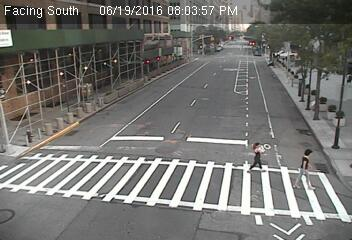neg: (137, 131, 160, 162), (20, 115, 43, 144), (67, 106, 88, 134), (94, 77, 113, 102), (60, 166, 79, 191), (174, 146, 192, 171), (134, 59, 152, 83), (240, 71, 257, 95), (183, 192, 200, 215), (116, 186, 133, 208), (196, 69, 210, 88), (287, 33, 301, 51), (291, 73, 304, 90), (320, 95, 332, 112), (207, 28, 218, 42)
pos: (292, 146, 326, 190), (245, 138, 270, 171)
